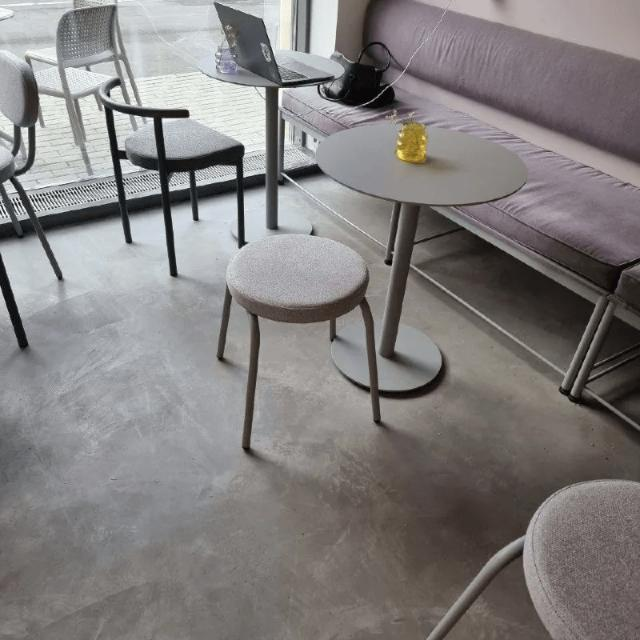chair: (93, 71, 254, 281), (95, 68, 219, 170), (28, 4, 148, 109), (0, 57, 43, 181)
